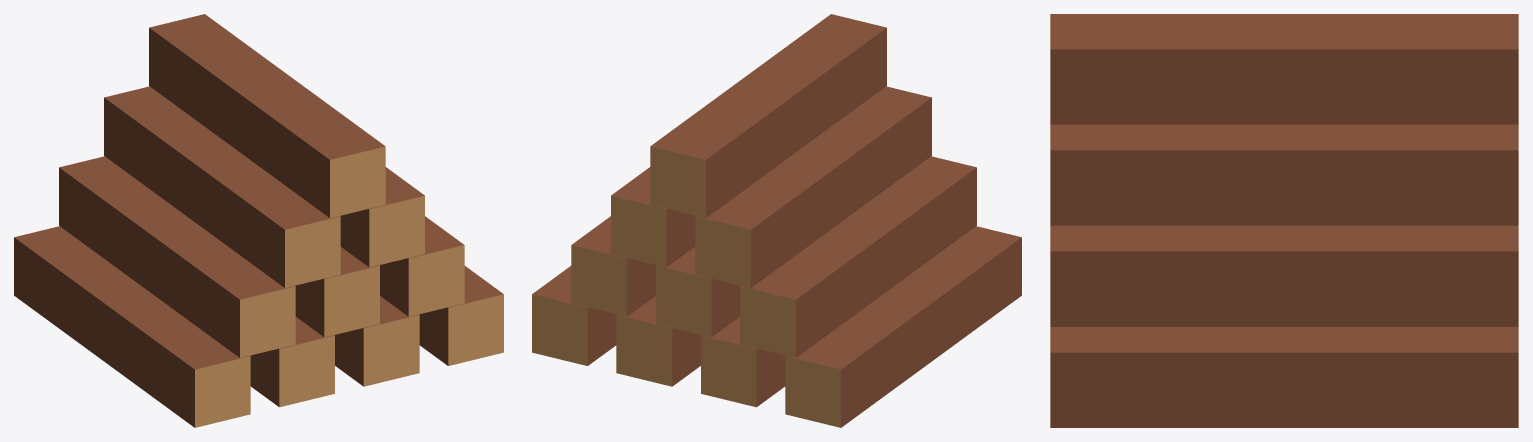
File: Fiewoods.fbx
3 renders of one model, left to right at view 1: azimuth 30°, elevation 25°; view 2: azimuth 150°, elevation 25°; view 3: azimuth 270°, elevation 25°, orthographic. The views are drawn at different scales.
Parts seen in each view (by area): view 1: Firewoods; view 2: Firewoods; view 3: Firewoods.
Part boxes in pixels (x1,y1,x2,y2): Firewoods: (14, 14, 503, 427); Firewoods: (532, 14, 1021, 427); Firewoods: (1050, 14, 1518, 427).
Bounding box in the file's own units: 0.549 × 0.399 × 0.5566.
